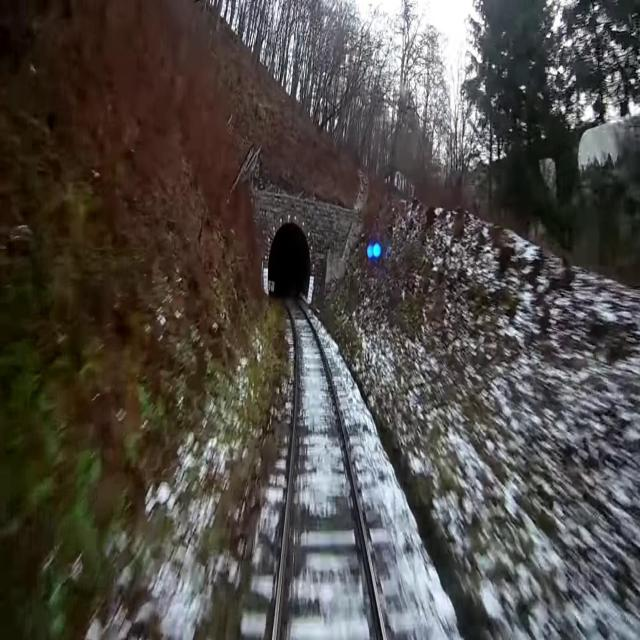rail-track: (277, 293, 381, 639)
